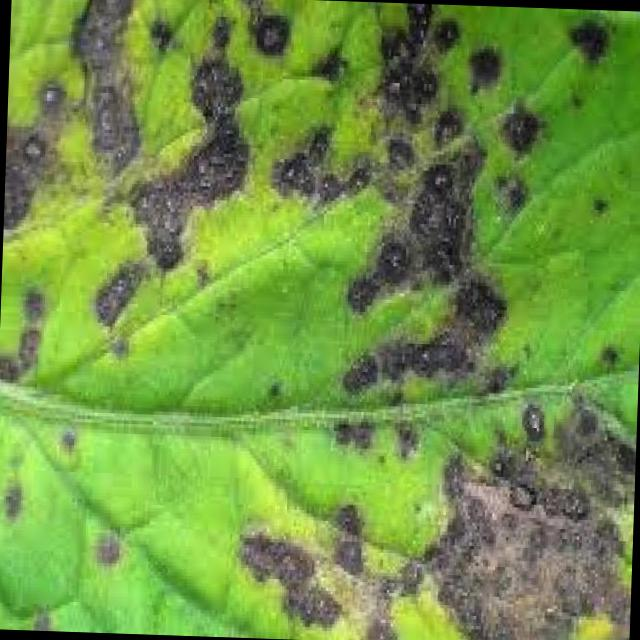Septoria_Blight: (252, 8, 536, 439)
